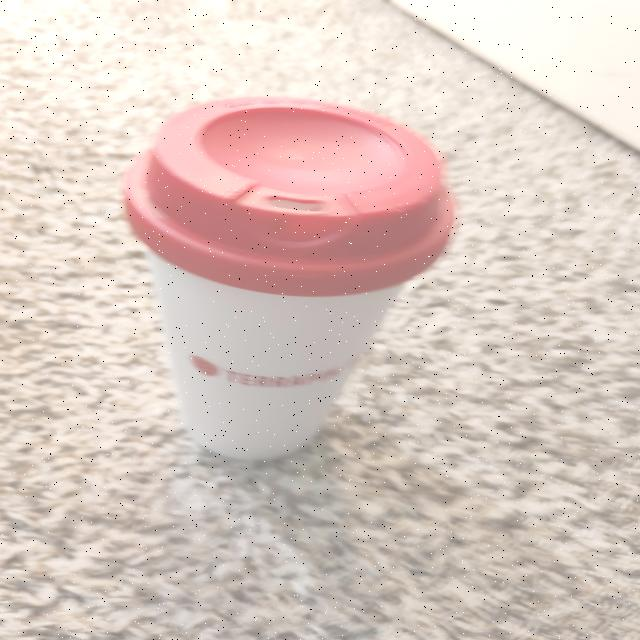mug: (142, 104, 452, 462)
